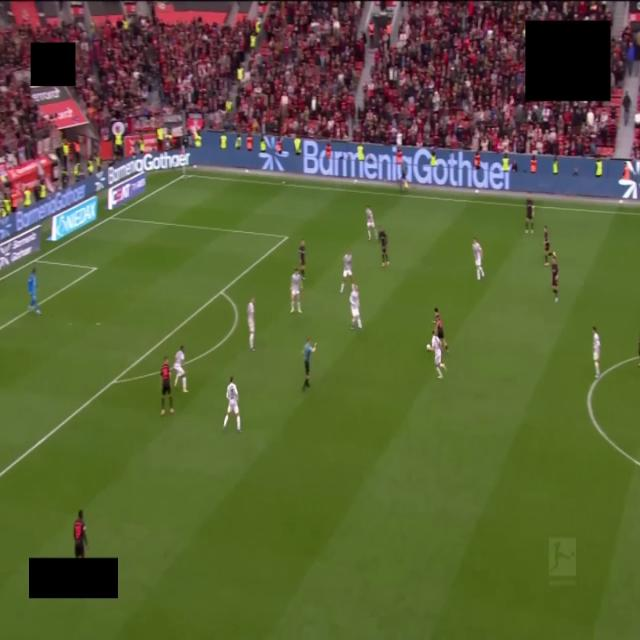player: (223, 376, 240, 431), (427, 330, 445, 378), (161, 357, 173, 415), (433, 308, 448, 351), (74, 510, 87, 558), (174, 346, 187, 392), (472, 237, 485, 281), (28, 268, 40, 314), (350, 284, 362, 329), (340, 252, 352, 293), (291, 269, 302, 313), (379, 229, 389, 267), (247, 297, 254, 351), (366, 206, 377, 240), (593, 327, 600, 377), (551, 253, 558, 302), (526, 194, 534, 233), (544, 225, 550, 265), (299, 240, 305, 279), (638, 336, 639, 358)
referee: (302, 338, 316, 391)
